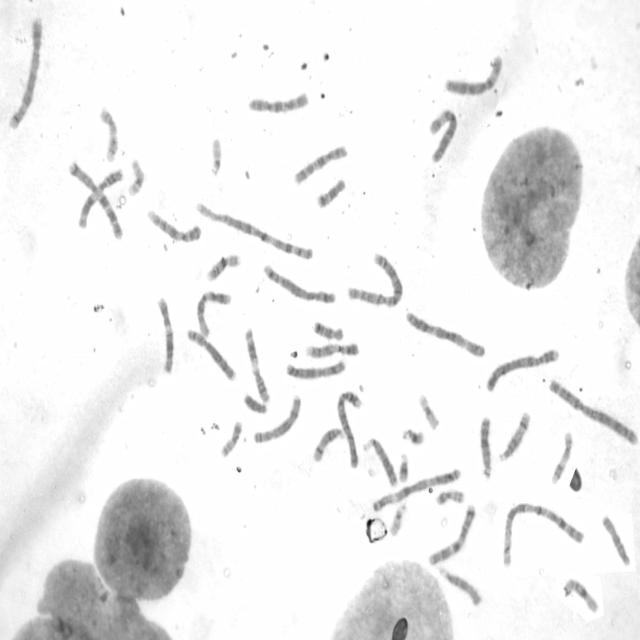A1: (193, 199, 316, 262), (500, 498, 586, 570)
A2: (546, 374, 639, 446), (345, 250, 404, 310)
A3: (369, 464, 463, 514), (402, 306, 487, 359)
B4: (483, 345, 560, 394), (334, 386, 363, 470)
B5: (6, 12, 44, 132), (261, 259, 337, 306)
C10: (291, 142, 349, 186), (245, 88, 311, 116)
C11: (78, 168, 125, 227), (242, 324, 271, 405)
C12: (194, 285, 233, 340), (155, 293, 175, 376)
C6: (442, 52, 505, 98), (426, 106, 459, 164)
C7: (66, 157, 125, 240), (426, 501, 477, 567)
C8: (184, 325, 237, 384), (250, 392, 302, 447)
C9: (145, 207, 202, 244), (303, 339, 360, 361)
D13: (361, 434, 400, 489), (478, 412, 493, 480)
D14: (496, 408, 532, 464), (310, 425, 346, 464)
D15: (437, 562, 482, 610), (600, 513, 631, 567)
E16: (560, 574, 600, 616), (204, 250, 242, 283)
E17: (97, 104, 120, 165), (549, 429, 574, 485)
E18: (314, 175, 347, 210), (311, 318, 345, 342)
F19: (416, 390, 441, 431), (125, 156, 147, 198)
F20: (218, 418, 244, 459), (433, 486, 466, 507)
G21: (400, 425, 427, 447), (397, 449, 410, 484)
G22: (387, 500, 408, 538), (208, 134, 224, 178)
X: (283, 356, 347, 381)
Y: (241, 390, 268, 416)
